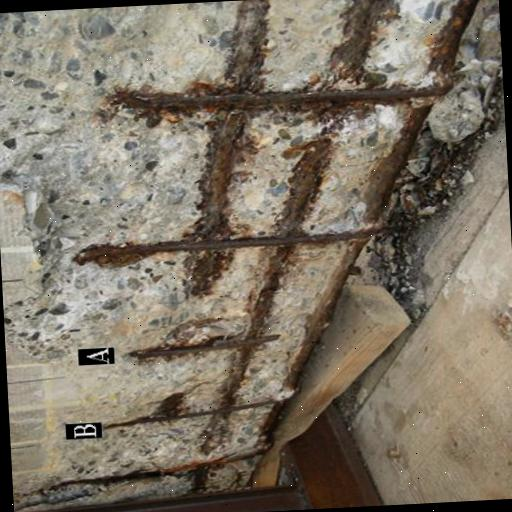spalling: (0, 0, 483, 492)
